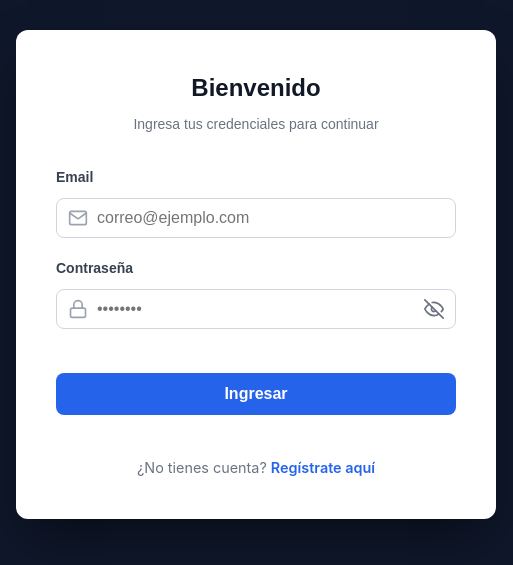
Test: LoginPage › muestra mensaje de error cuando las credenciales son incorrectas
The image size is (513, 565).
In the field labelled "Email": (256, 218) [56, 198, 456, 238], type "mal@test.com"
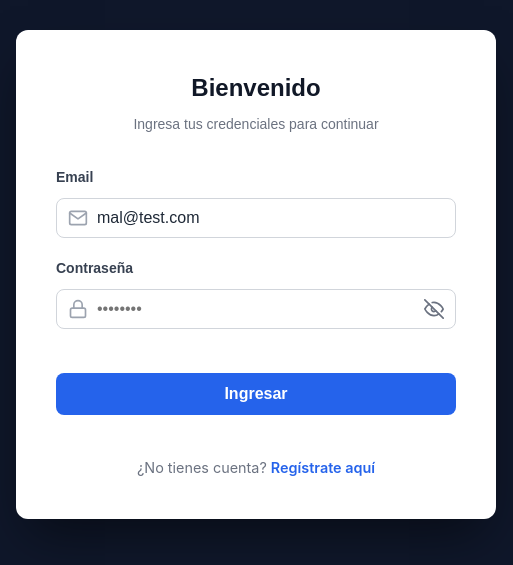
In the password field labelled "Contraseña": (256, 308) [56, 288, 456, 328], type "wrongpassword"
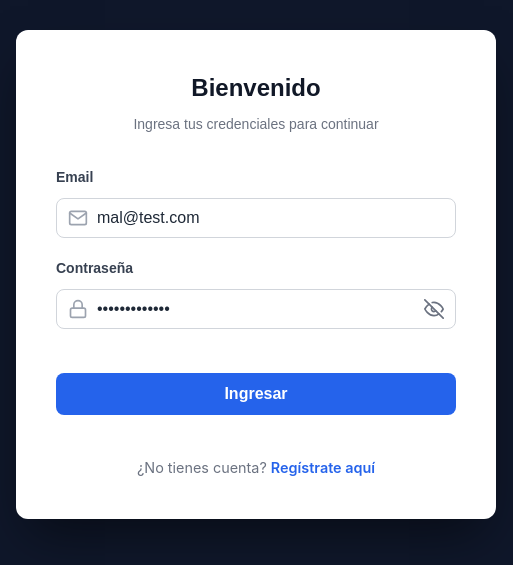
Click the button "Ingresar": (256, 394) [56, 372, 456, 414]
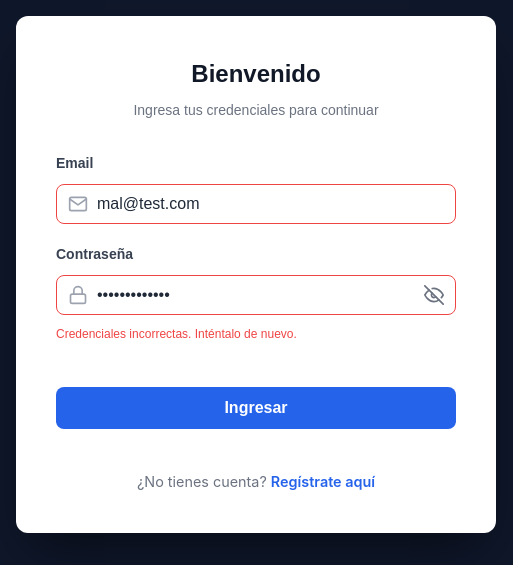
Result: the text "Credenciales incorrectas. Inténtalo de nuevo." is shown at [56, 326, 297, 340]
